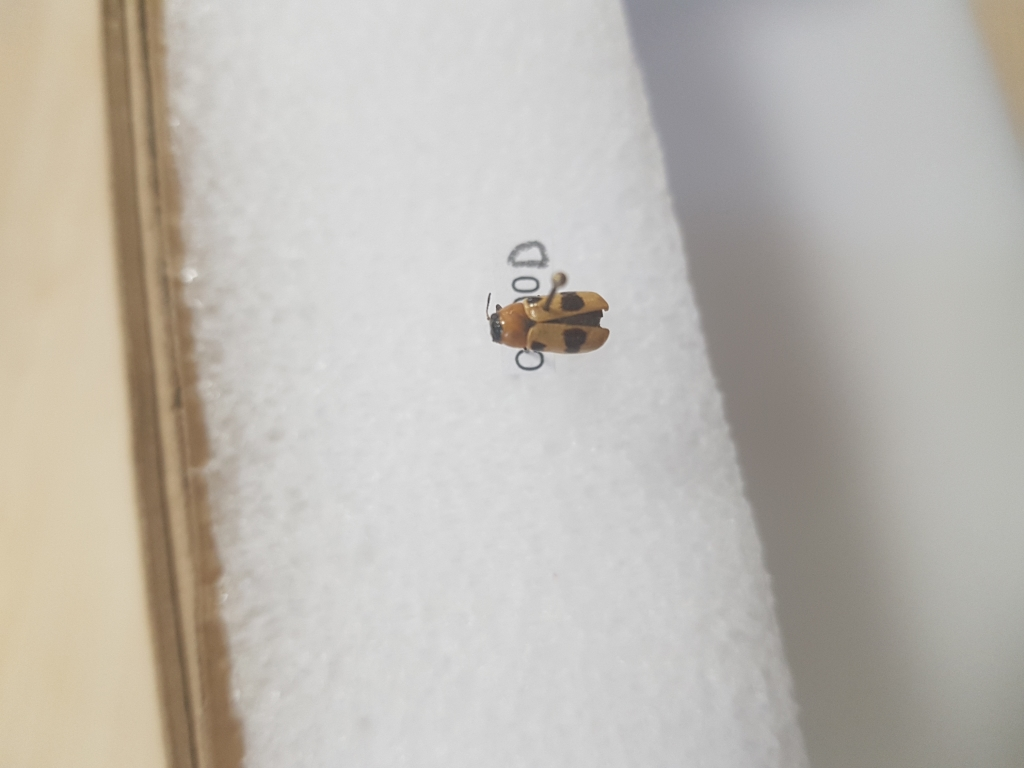Tituboea_macropus: (483, 286, 614, 359)
